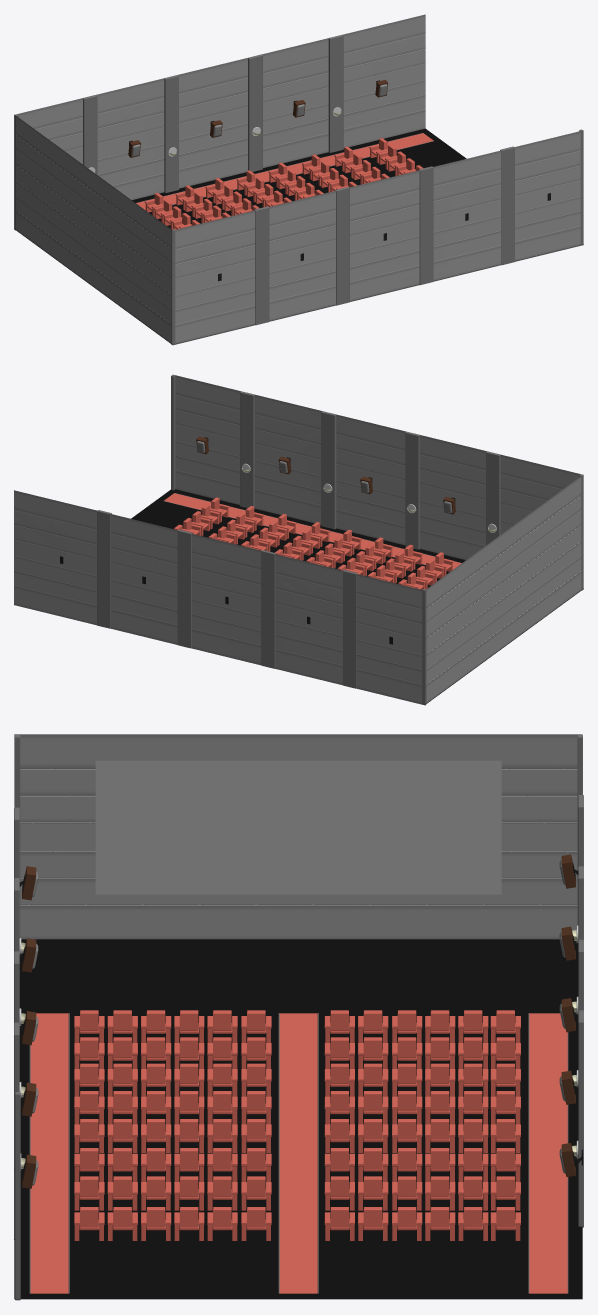
The model's file is Cinema.fbx.
3 views of the same model, one above another, from view 1: azimuth 30°, elevation 25°; view 2: azimuth 150°, elevation 25°; view 3: azimuth 270°, elevation 25° (orthographic). The views are drawn at different scales.
Parts seen in each view (by area): view 1: pPlane5, pPlane2, Front_Wall, Floor, pCube13, pCube51, pCube56, pCube10, pCube12, pCube52, pCube53, pCube5 (+3 smaller); view 2: pPlane2, pPlane5, Front_Wall, Floor, pCube56, pCube11, pCube10, pCube12, pCube53, pCube52, pCube13, pCube51 (+3 smaller); view 3: Floor, Front_Wall, Cinema_Screen, pCube1, pCube5, pCube8, pCube13, pCube57, Seat_5_E, Seat_5_F, Seat_5_G, Seat_5_H (+93 smaller).
Boxes of the visible parts, x1,y1,x2,y2 form: pPlane5: [172, 130, 583, 344]; pPlane2: [14, 14, 425, 229]; Front_Wall: [15, 115, 172, 342]; Floor: [14, 128, 583, 344]; pCube13: [328, 35, 343, 152]; pCube51: [254, 206, 269, 325]; pCube56: [418, 166, 433, 285]; pCube10: [164, 75, 178, 192]; pCube12: [248, 54, 262, 171]; pCube52: [335, 186, 349, 305]; pCube53: [500, 146, 514, 265]; pCube5: [136, 133, 433, 209]; pPlane2: [14, 490, 425, 705]; pPlane5: [173, 374, 583, 588]; Front_Wall: [425, 475, 582, 702]; Floor: [131, 489, 583, 703]; pCube56: [321, 411, 336, 529]; pCube11: [342, 570, 357, 688]; pCube10: [261, 550, 276, 668]; pCube12: [177, 529, 192, 648]; pCube53: [240, 391, 254, 508]; pCube52: [405, 431, 419, 549]; pCube13: [97, 510, 111, 628]; pCube51: [486, 451, 500, 545]; Floor: [14, 939, 582, 1299]; Front_Wall: [14, 734, 582, 939]; Cinema_Screen: [95, 760, 501, 894]; pCube1: [279, 1013, 317, 1293]; pCube5: [529, 1013, 567, 1293]; pCube8: [30, 1013, 68, 1293]; pCube13: [578, 1010, 583, 1227]; pCube57: [15, 1092, 20, 1300]; Seat_5_E: [207, 1119, 237, 1152]; Seat_5_F: [207, 1148, 237, 1181]; Seat_5_G: [207, 1176, 237, 1210]; Seat_5_H: [207, 1207, 237, 1240].
Size of the model in its own units: 30 by 8.02 by 20.06.
